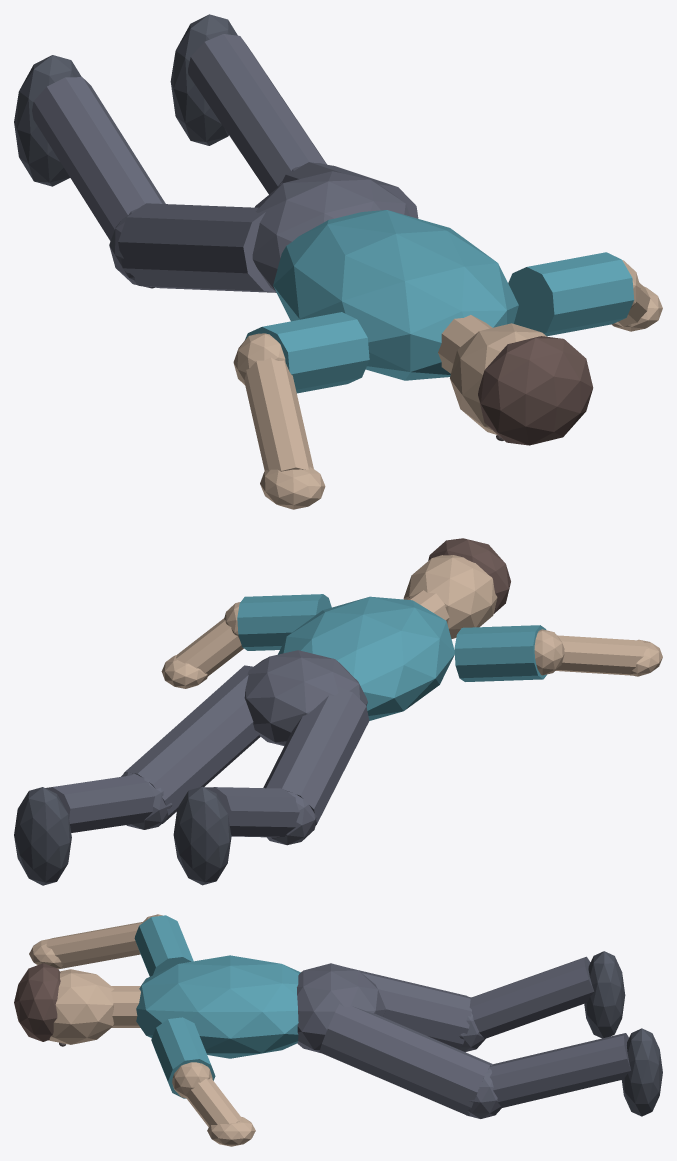
The picture shows the model from 3 angles, top to bottom: view 1: azimuth 30°, elevation 25°; view 2: azimuth 150°, elevation 25°; view 3: azimuth 270°, elevation 25°; orthographic projection. The views are drawn at different scales.
Visible parts, largest first — view 1: world; view 2: world; view 3: world.
Boxes of the visible parts, x1,y1,x2,y2 form: world: (14, 14, 662, 509); world: (14, 538, 662, 885); world: (14, 914, 662, 1146).
Bounding box in the file's own units: 1.25 × 0.3942 × 2.
